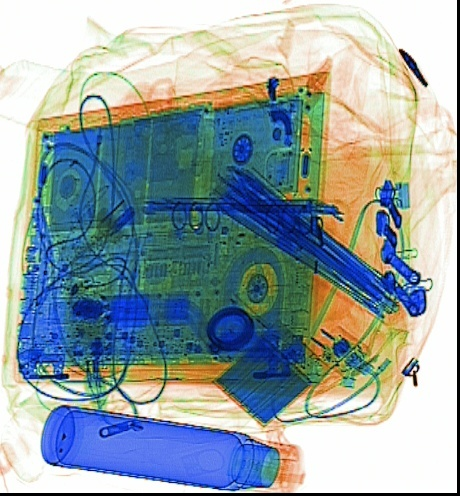powerbank: (210, 318, 330, 428)
